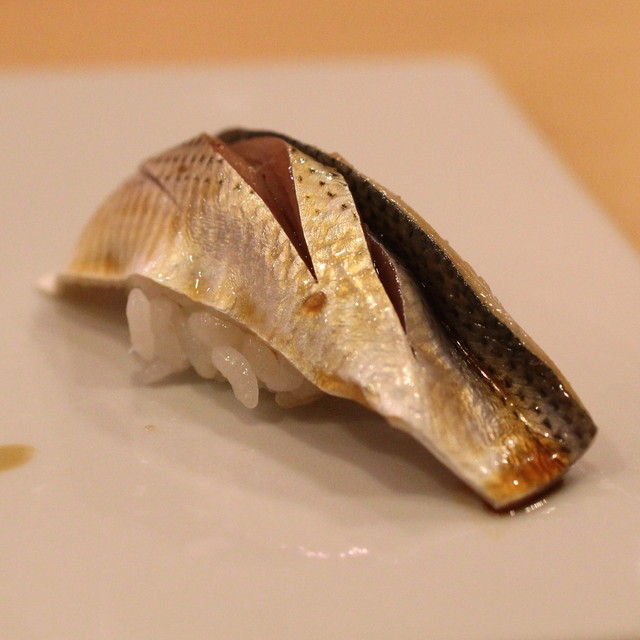spotted-shad: (45, 124, 599, 525)
